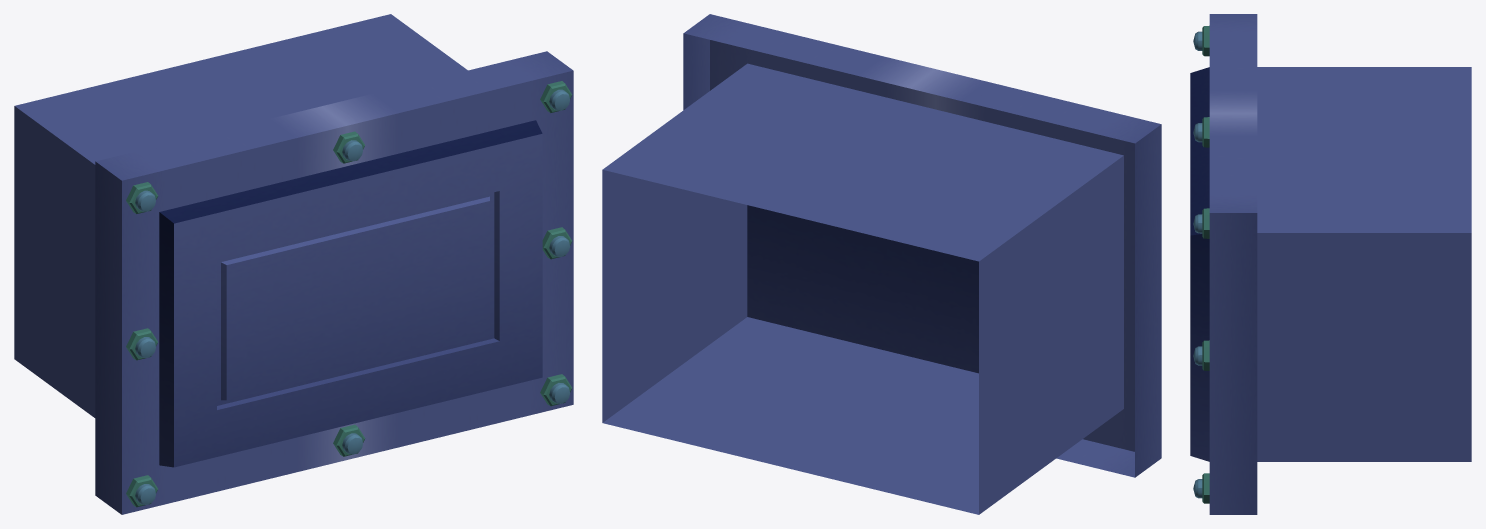
Rendered from Hatch.fbx.
The picture shows the model from 3 angles, left to right: view 1: azimuth 30°, elevation 25°; view 2: azimuth 150°, elevation 25°; view 3: azimuth 270°, elevation 25°; orthographic projection. The views are drawn at different scales.
Visible parts, largest first — view 1: Hatch, HatchDoor, Bolt8, Bolt4, Bolt5, Bolt7, Bolt6, Bolt, Bolt2, Bolt3; view 2: Hatch, HatchDoor; view 3: Hatch, HatchDoor, Bolt, Bolt8, Bolt2, Bolt3, Bolt4.
Part boxes in pixels (x1,y1,x2,y2): Hatch: (14, 14, 573, 514); HatchDoor: (159, 120, 542, 467); Bolt8: (333, 131, 365, 163); Bolt4: (540, 374, 572, 406); Bolt5: (333, 424, 365, 456); Bolt7: (126, 328, 157, 360); Bolt6: (126, 475, 157, 507); Bolt: (126, 182, 157, 213); Bolt2: (540, 81, 572, 112); Bolt3: (542, 227, 572, 259); Hatch: (602, 14, 1161, 514); HatchDoor: (747, 205, 978, 373); Hatch: (1209, 14, 1471, 514); HatchDoor: (1190, 67, 1209, 461); Bolt: (1193, 25, 1209, 56); Bolt8: (1193, 117, 1209, 147); Bolt2: (1193, 208, 1209, 238); Bolt3: (1193, 340, 1209, 370); Bolt4: (1193, 473, 1209, 503).
Bounding box in the file's own units: 12.36 × 8.74 × 7.38.
